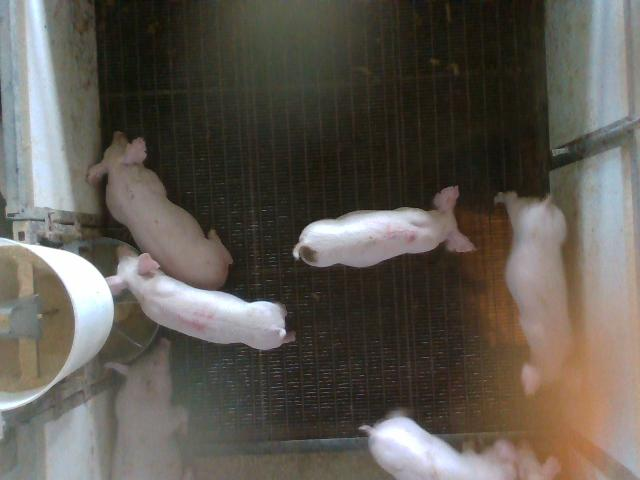pig-4: (105, 244, 295, 349)
pig-5: (292, 186, 474, 268)
